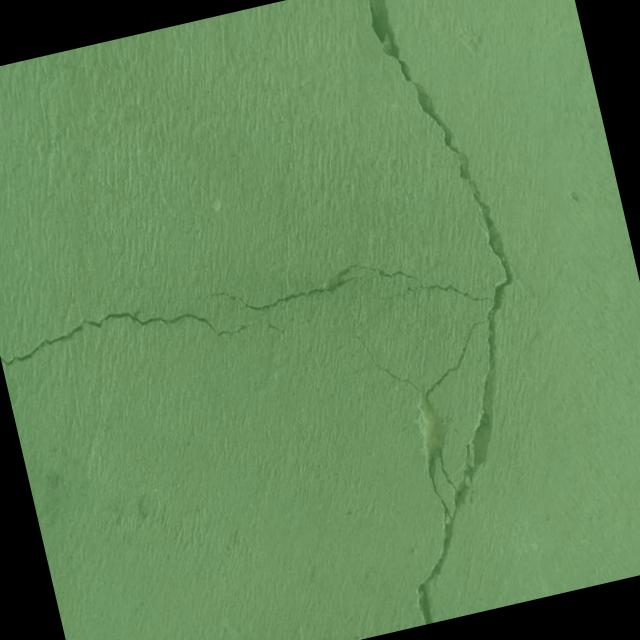crack: (143, 0, 586, 640), (0, 282, 249, 387)
